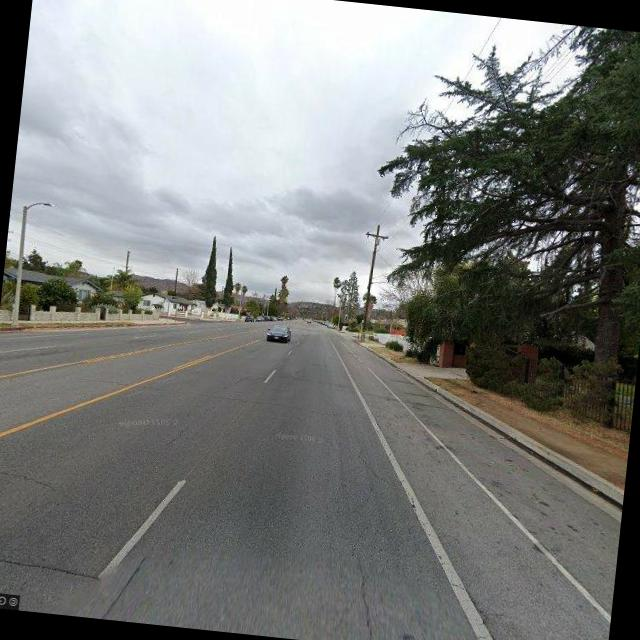crack: (0, 550, 100, 577), (0, 461, 63, 493), (164, 420, 194, 450)
